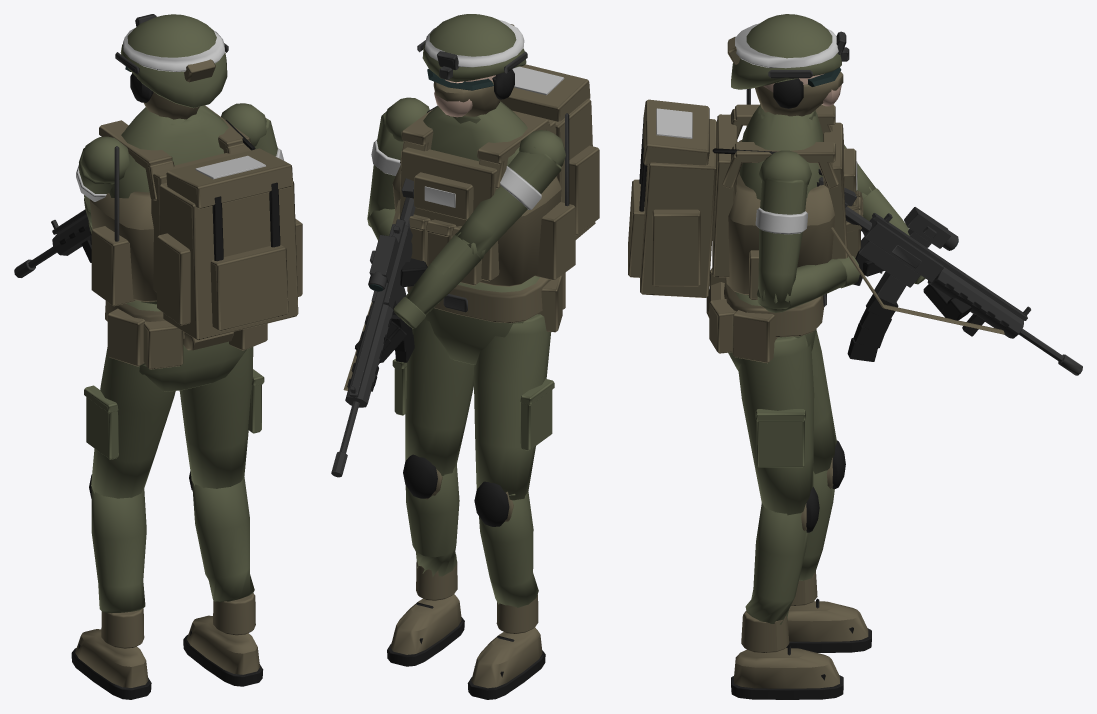
File: rifleman.glb
3 renders of one model, left to right at view 1: azimuth 30°, elevation 25°; view 2: azimuth 150°, elevation 25°; view 3: azimuth 270°, elevation 25°, orthographic. The views are drawn at different scales.
Visible parts, largest first — view 1: Torso, LegLower_L, LegLower_R, Head, LegUpper_L, Pelvis, LegUpper_R, ArmUpper_L, Rifle, ArmUpper_R; view 2: Torso, LegUpper_L, LegLower_L, LegLower_R, Head, LegUpper_R, Pelvis, Rifle, ArmUpper_L, ArmLower_L, ArmUpper_R, ArmLower_R; view 3: Torso, Rifle, LegLower_R, LegUpper_R, Head, ArmUpper_R, LegLower_L, Pelvis, ArmLower_R, LegUpper_L, ArmLower_L.
Boxes of the visible parts, box(x1,y1,x2,y2) form: Torso: box(90, 105, 302, 340); LegLower_L: box(71, 474, 151, 699); LegLower_R: box(183, 471, 263, 686); Head: box(115, 14, 228, 119); LegUpper_L: box(84, 347, 175, 498); Pelvis: box(105, 300, 267, 391); LegUpper_R: box(179, 347, 264, 488); ArmUpper_L: box(76, 136, 129, 210); Rifle: box(14, 209, 91, 277); ArmUpper_R: box(221, 103, 284, 160); Torso: box(392, 64, 599, 286); LegUpper_L: box(473, 314, 554, 500); LegLower_L: box(467, 481, 545, 699); LegLower_R: box(387, 454, 464, 666); Head: box(417, 14, 527, 117); LegUpper_R: box(392, 319, 474, 475); Pelvis: box(407, 272, 565, 364); Rifle: box(331, 178, 415, 477); ArmUpper_L: box(456, 130, 565, 256); ArmLower_L: box(355, 232, 485, 364); ArmUpper_R: box(367, 97, 429, 227); ArmLower_R: box(368, 208, 427, 286); Torso: box(628, 88, 863, 299); Rifle: box(817, 177, 1082, 375); LegLower_R: box(731, 487, 843, 699); LegUpper_R: box(738, 335, 814, 515); Head: box(727, 14, 849, 116); ArmUpper_R: box(755, 150, 811, 309); LegLower_L: box(786, 440, 871, 652); Pelvis: box(706, 268, 826, 370); ArmLower_R: box(757, 256, 884, 312); LegUpper_L: box(811, 329, 836, 474); ArmLower_L: box(862, 186, 971, 320).
Bounding box in the file's own units: 0.5745 × 1.77 × 1.13.
